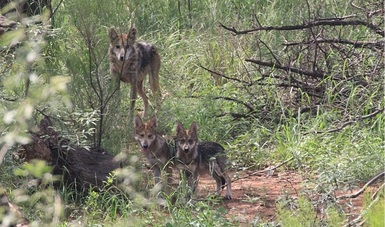Lobo: (95, 29, 175, 114), (173, 117, 225, 188), (123, 118, 171, 187)
